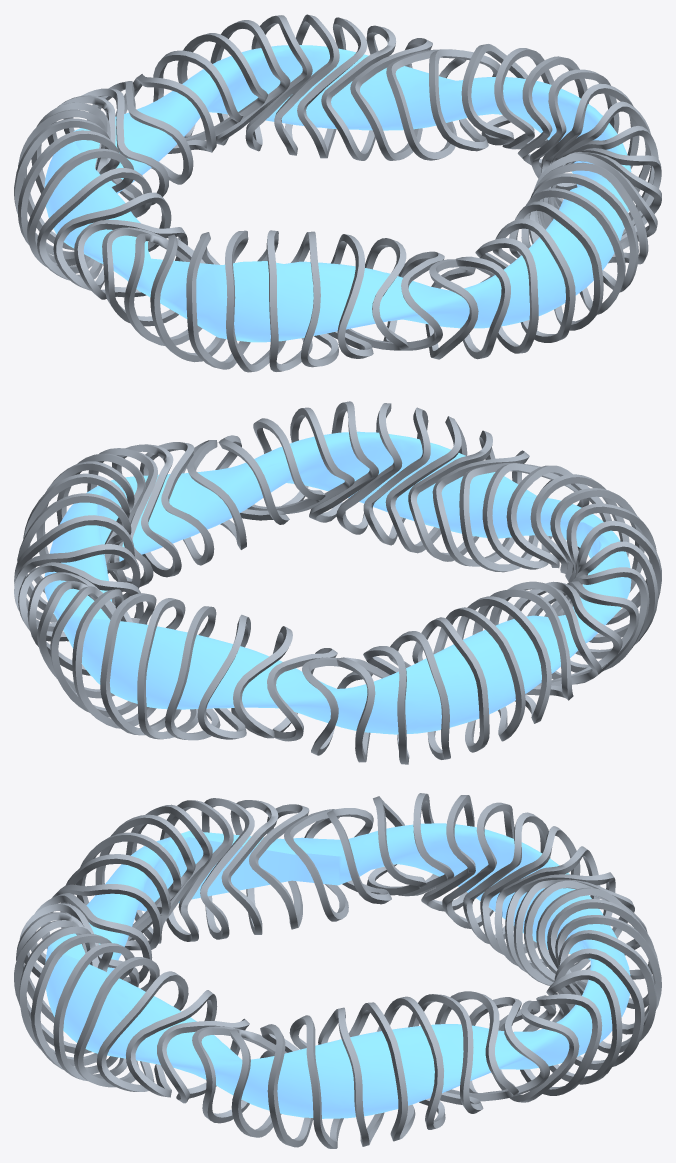
The model's file is w7x_stellarator.glb.
3 views of the same model, one above another, from view 1: azimuth 30°, elevation 25°; view 2: azimuth 150°, elevation 25°; view 3: azimuth 270°, elevation 25° (orthographic).
Parts seen in each view (by area): view 1: coils, plasma; view 2: coils, plasma; view 3: coils, plasma.
Part boxes in pixels (bbox=[...]): coils: bbox=[14, 14, 661, 372]; plasma: bbox=[44, 45, 631, 342]; coils: bbox=[14, 401, 661, 764]; plasma: bbox=[44, 431, 631, 734]; coils: bbox=[14, 793, 661, 1148]; plasma: bbox=[45, 823, 630, 1118].
Size of the model in its own units: 1.4 by 0.3264 by 1.4.
